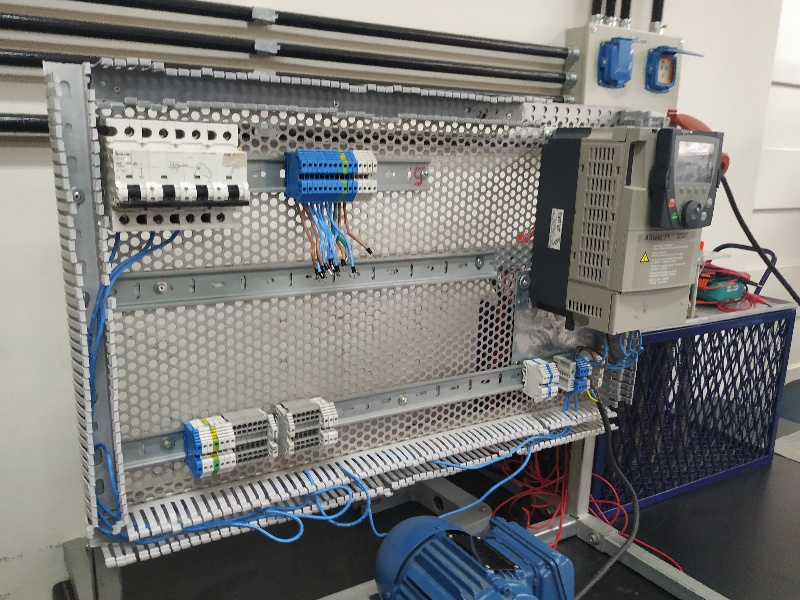Tablero 0: (91, 70, 726, 524)
